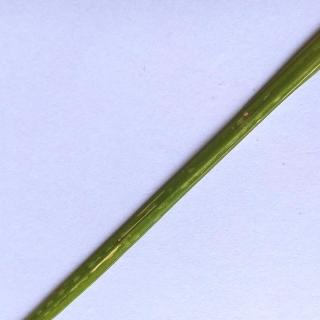Blast: (241, 109, 254, 122)
